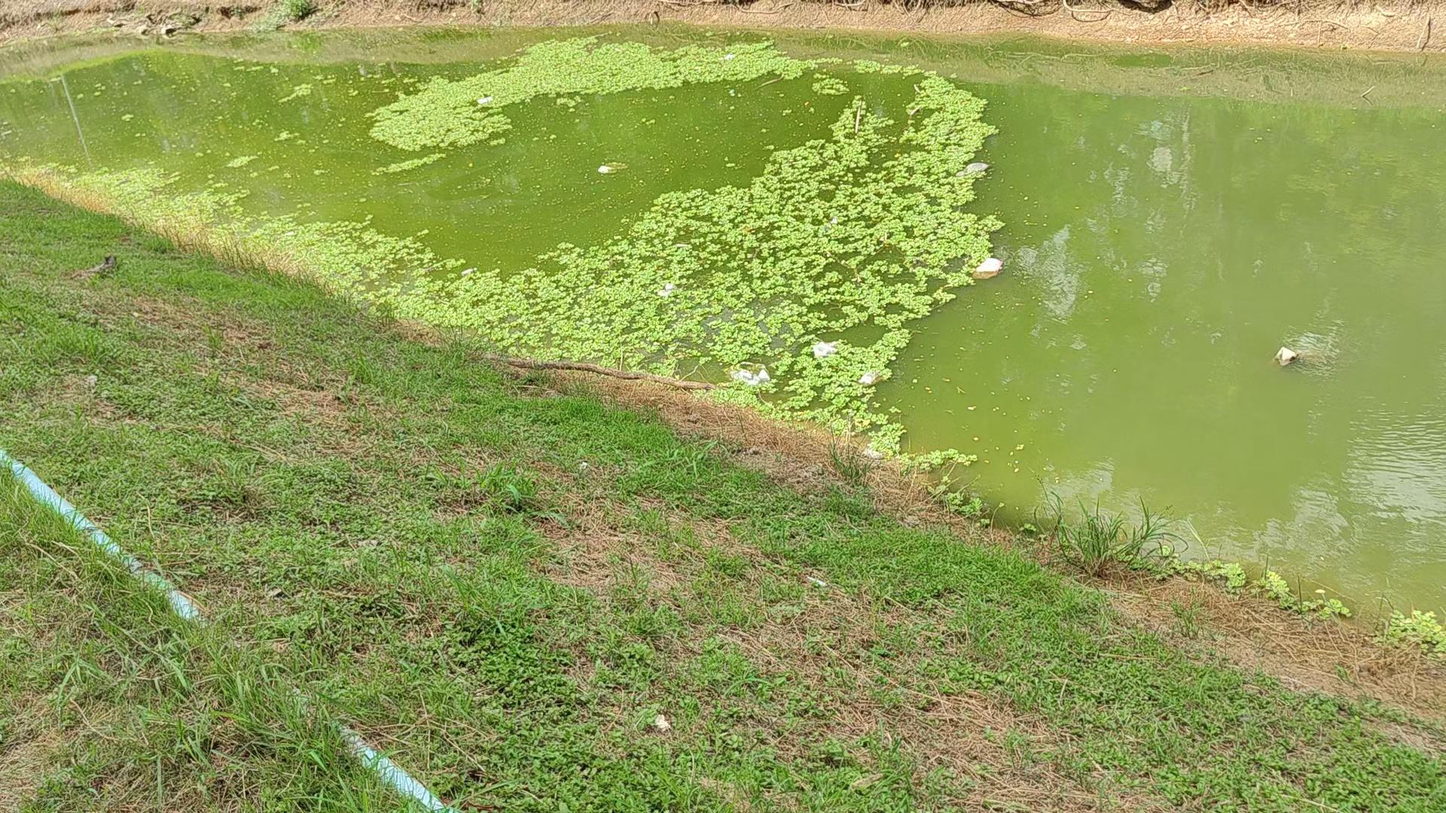trash: (731, 367, 770, 385), (972, 257, 1002, 279), (1274, 346, 1298, 366), (599, 160, 627, 173), (959, 162, 989, 174), (813, 342, 837, 357), (859, 370, 880, 385), (657, 283, 675, 296), (461, 267, 477, 276), (477, 97, 494, 105), (725, 53, 735, 59), (831, 217, 837, 224)
